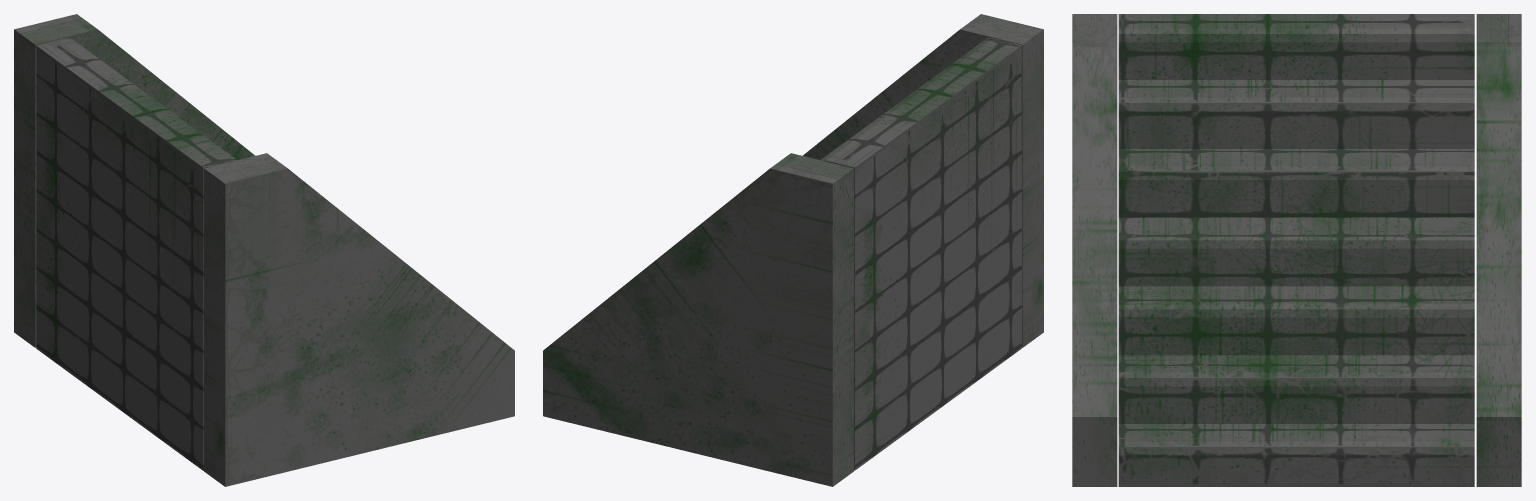
The model's file is Tangga.glb.
3 renders of one model, left to right at view 1: azimuth 30°, elevation 25°; view 2: azimuth 150°, elevation 25°; view 3: azimuth 270°, elevation 25°, orthographic. The views are drawn at different scales.
Parts seen in each view (by area): view 1: Tangga; view 2: Tangga; view 3: Tangga.
Boxes of the visible parts, x1,y1,x2,y2 form: Tangga: [14, 14, 514, 486]; Tangga: [543, 14, 1043, 486]; Tangga: [1072, 14, 1521, 486].
Bounding box in the file's own units: 2 × 2 × 2.52.
2 materials, 2 textured.
